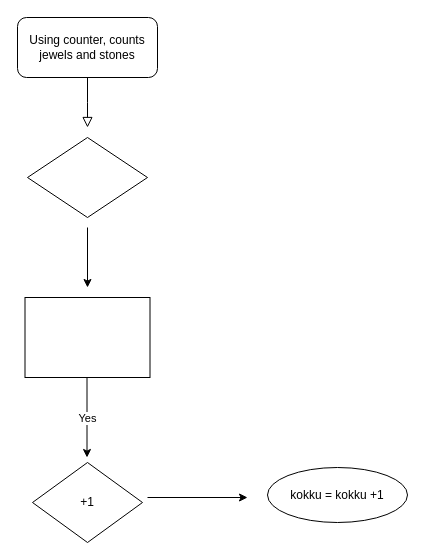
Some shapes in this 425 by 560 pixel diagram are drawn without their labels. Here are the shapes that lost their labels. From the top down, the centre of each, then its label:
pixel 87 177: kokku = 0
pixel 87 337: If stones in jewels
